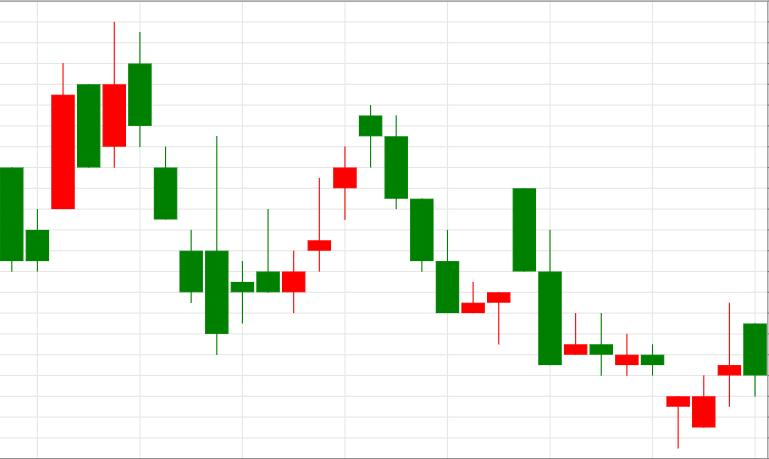evening_star_fall: (282, 105, 408, 313)
three_black_crows_fall: (283, 104, 459, 313)
